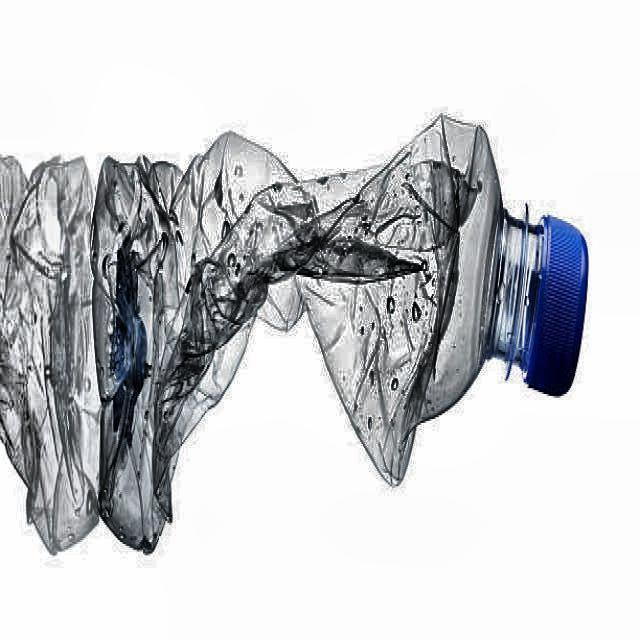plastic: (92, 116, 584, 551)
